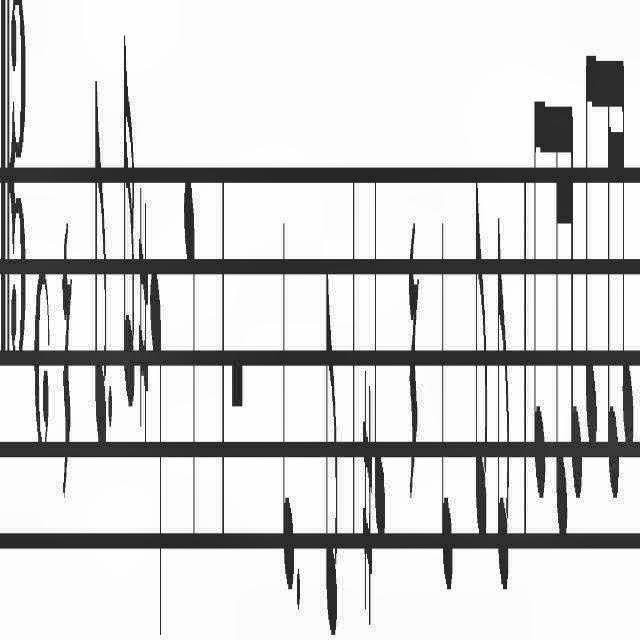Diez: (360, 368, 372, 640), (139, 160, 149, 462)
Eighth-note: (496, 204, 516, 616), (532, 48, 548, 520), (472, 162, 490, 566), (92, 34, 108, 486), (322, 279, 340, 640), (585, 26, 597, 466)
Quarter-note: (180, 105, 200, 599), (277, 212, 295, 632), (438, 193, 454, 615), (372, 161, 388, 574), (150, 244, 166, 620)
Quarter-rest: (403, 211, 421, 537), (58, 177, 72, 528)
Sixteenth-note: (566, 65, 584, 528), (119, 28, 137, 412), (604, 38, 618, 524), (620, 42, 636, 462), (554, 62, 566, 578)
